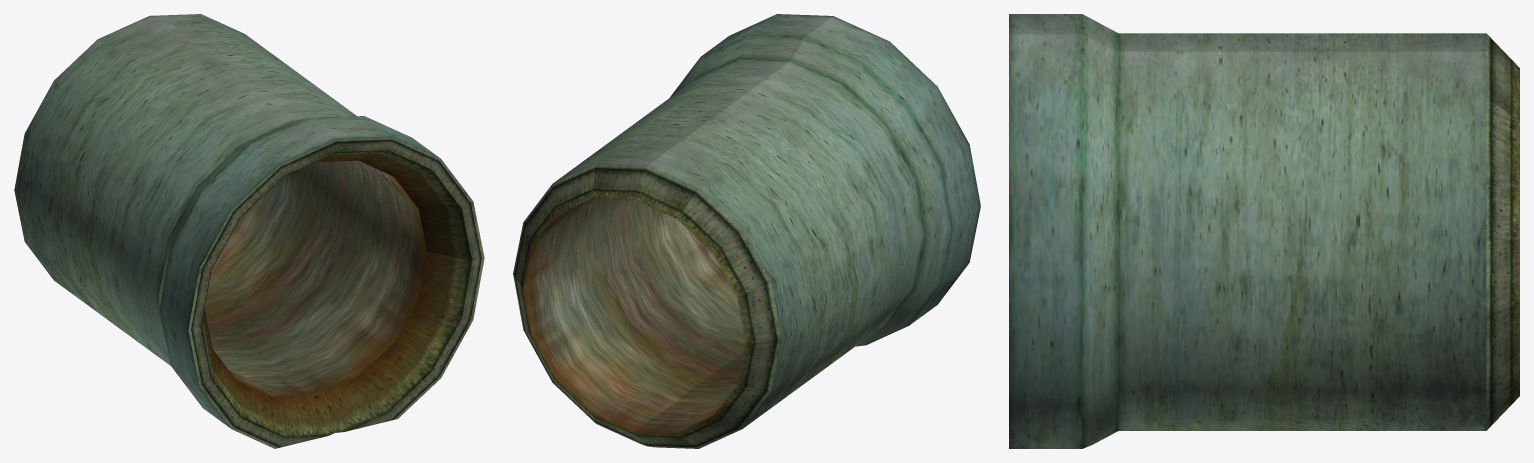
The model's file is pipes_concrete_large.fbx.
The picture shows the model from 3 angles, left to right: view 1: azimuth 30°, elevation 25°; view 2: azimuth 150°, elevation 25°; view 3: azimuth 270°, elevation 25°; orthographic projection. The views are drawn at different scales.
Parts seen in each view (by area): view 1: mesh_0; view 2: mesh_0; view 3: mesh_0.
Part boxes in pixels (<box>): mesh_0: <box>14,14,484,448</box>; mesh_0: <box>513,14,980,448</box>; mesh_0: <box>1009,14,1519,448</box>.
Bounding box in the file's own units: 259 × 246 × 303.
1 material, 1 textured.
